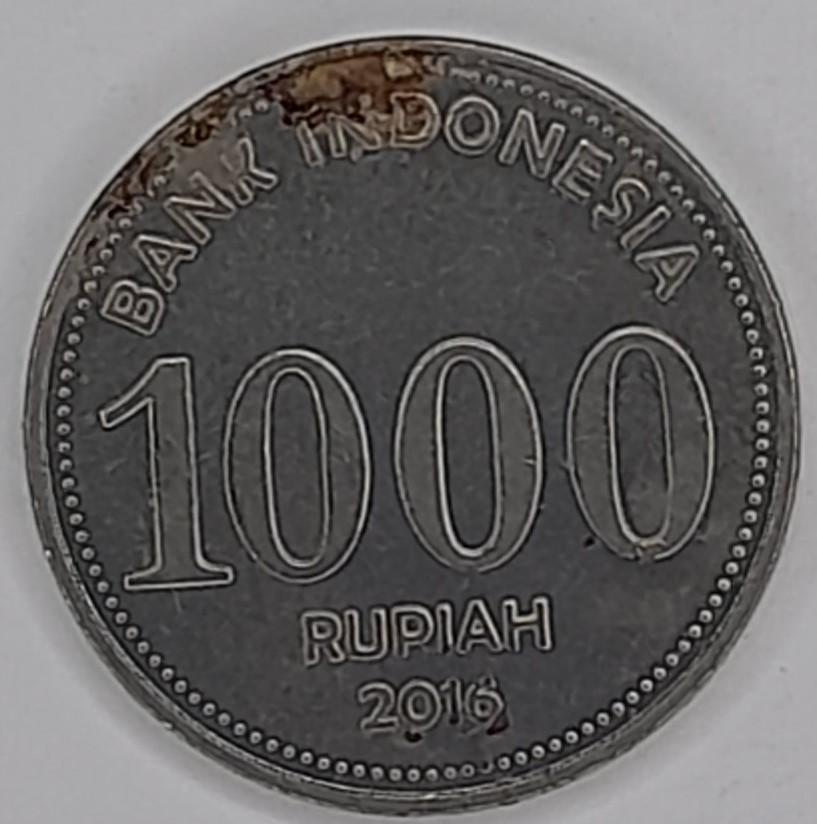coin_1000_e2016: (14, 16, 806, 824)
